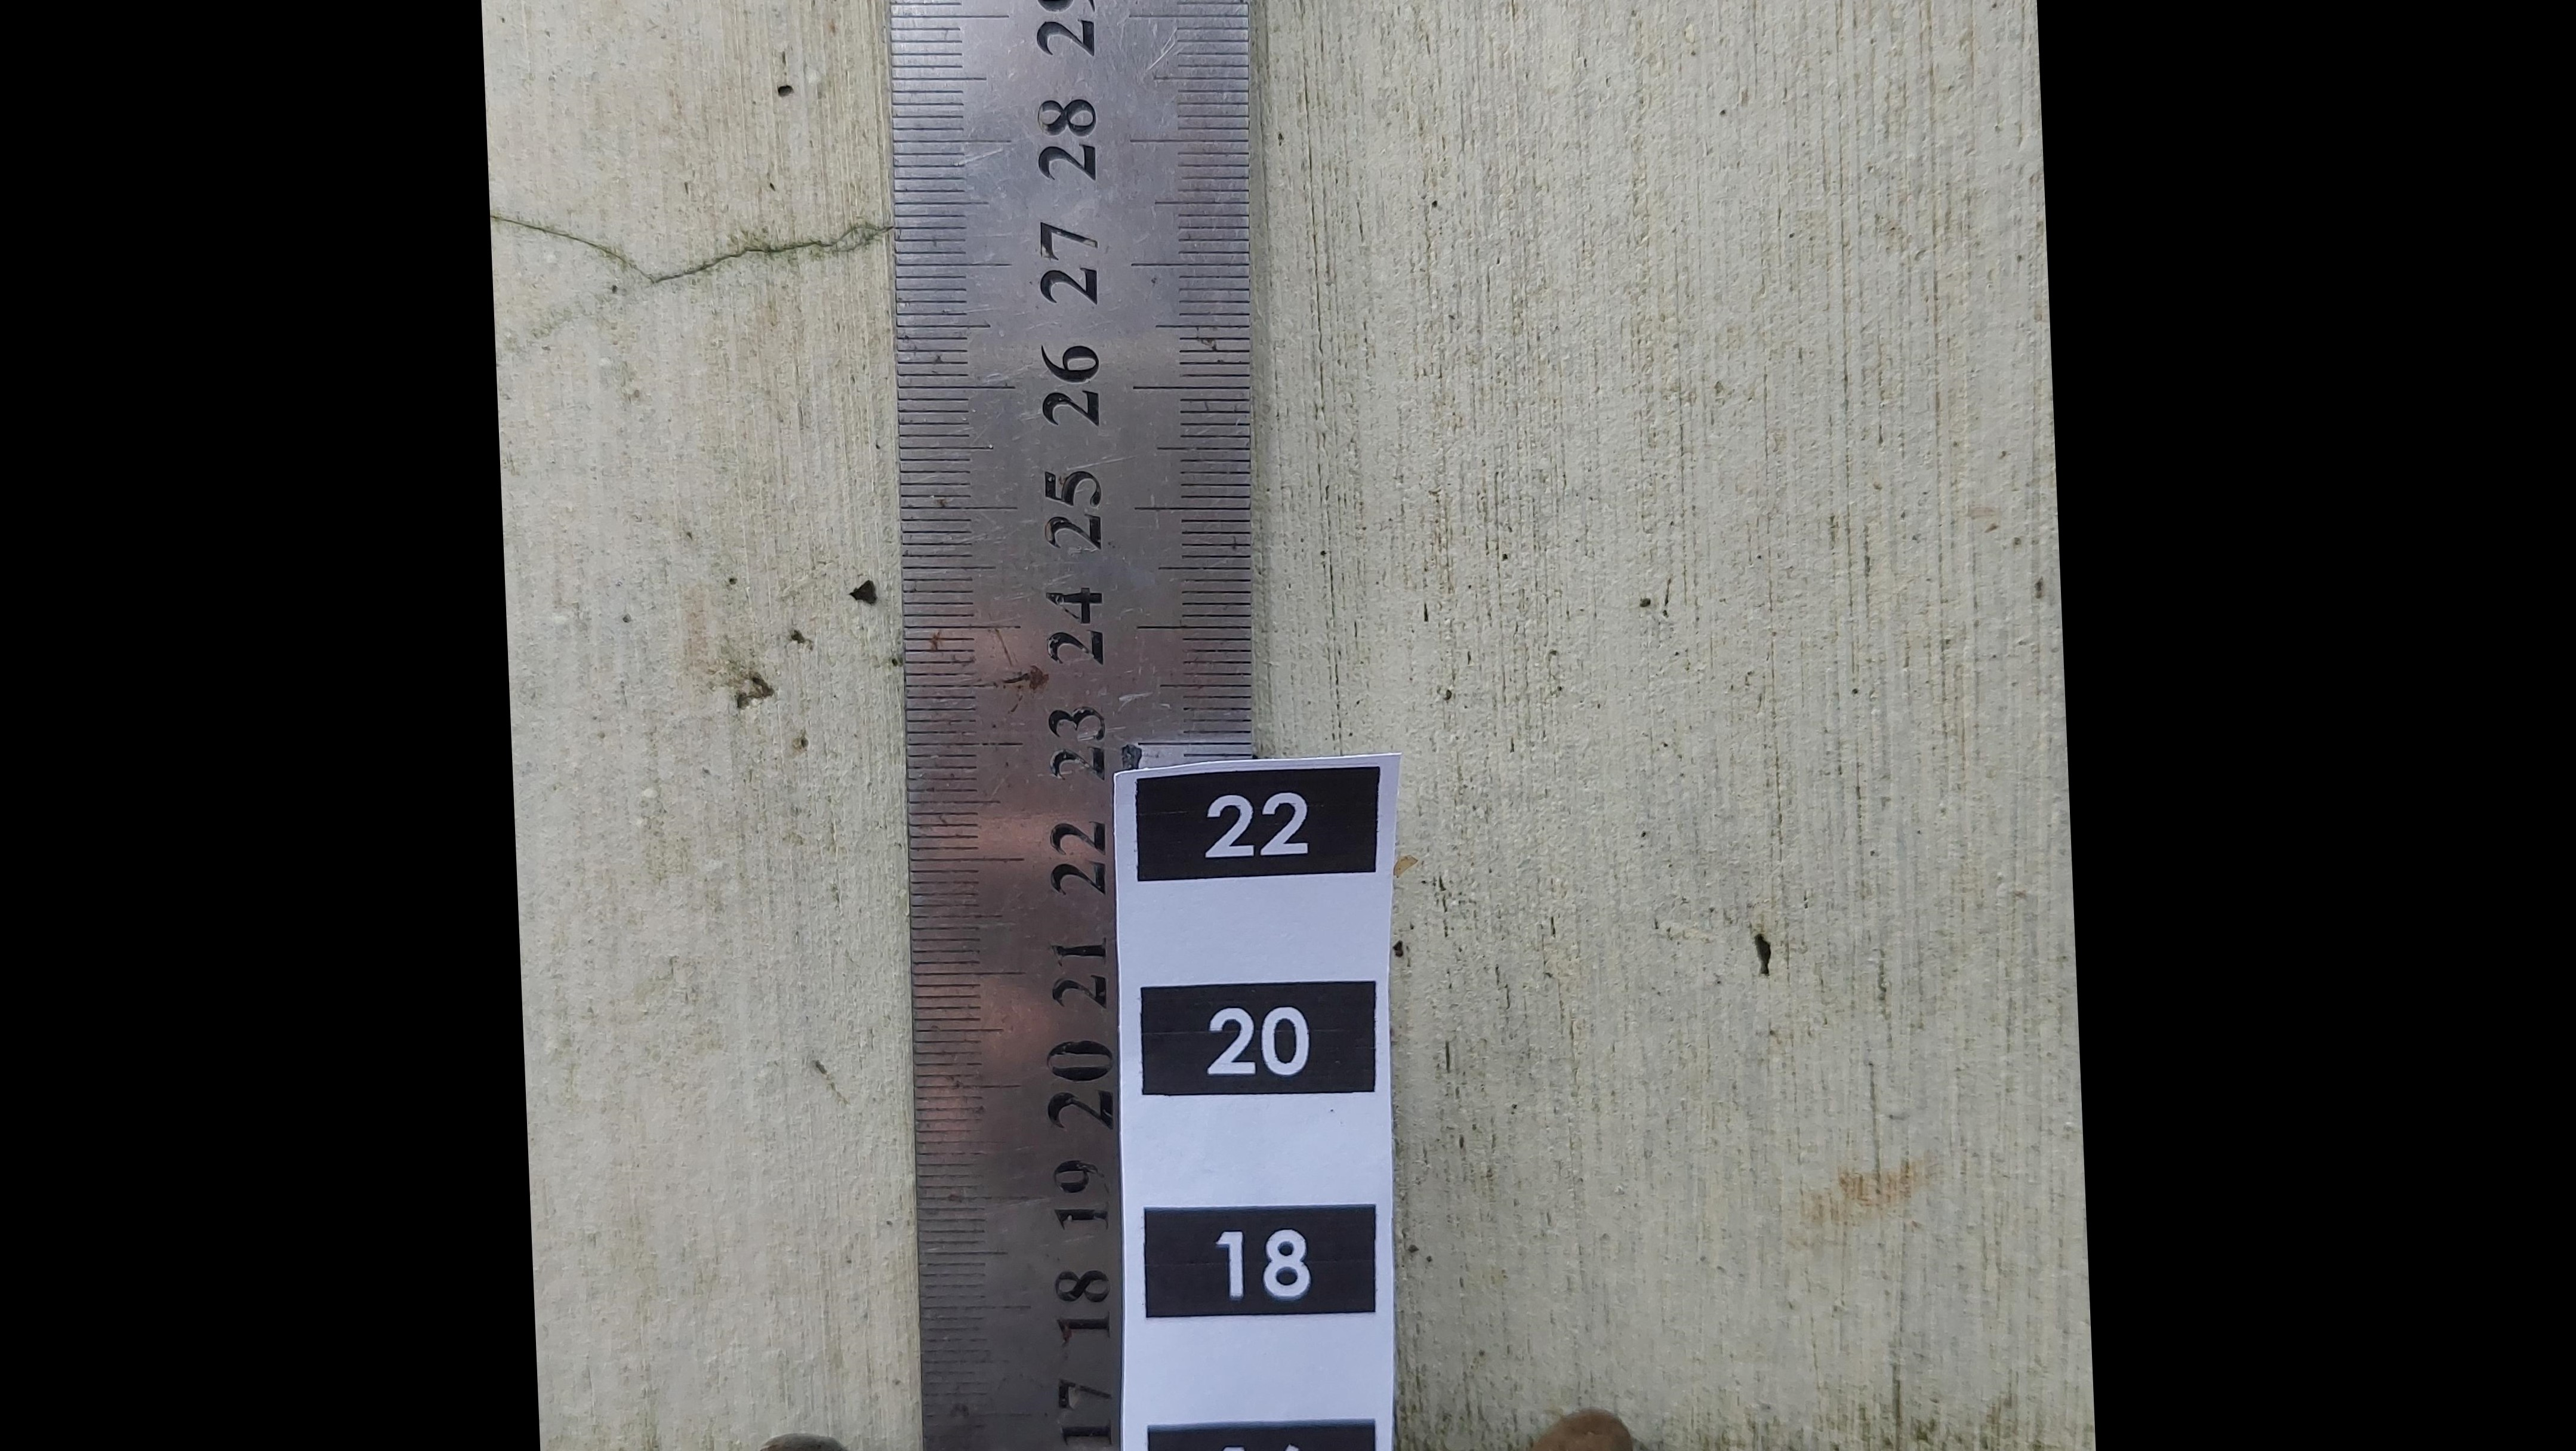kotak_2x1: (1138, 986, 1376, 1099), (1136, 775, 1378, 879), (1143, 1207, 1375, 1313)
